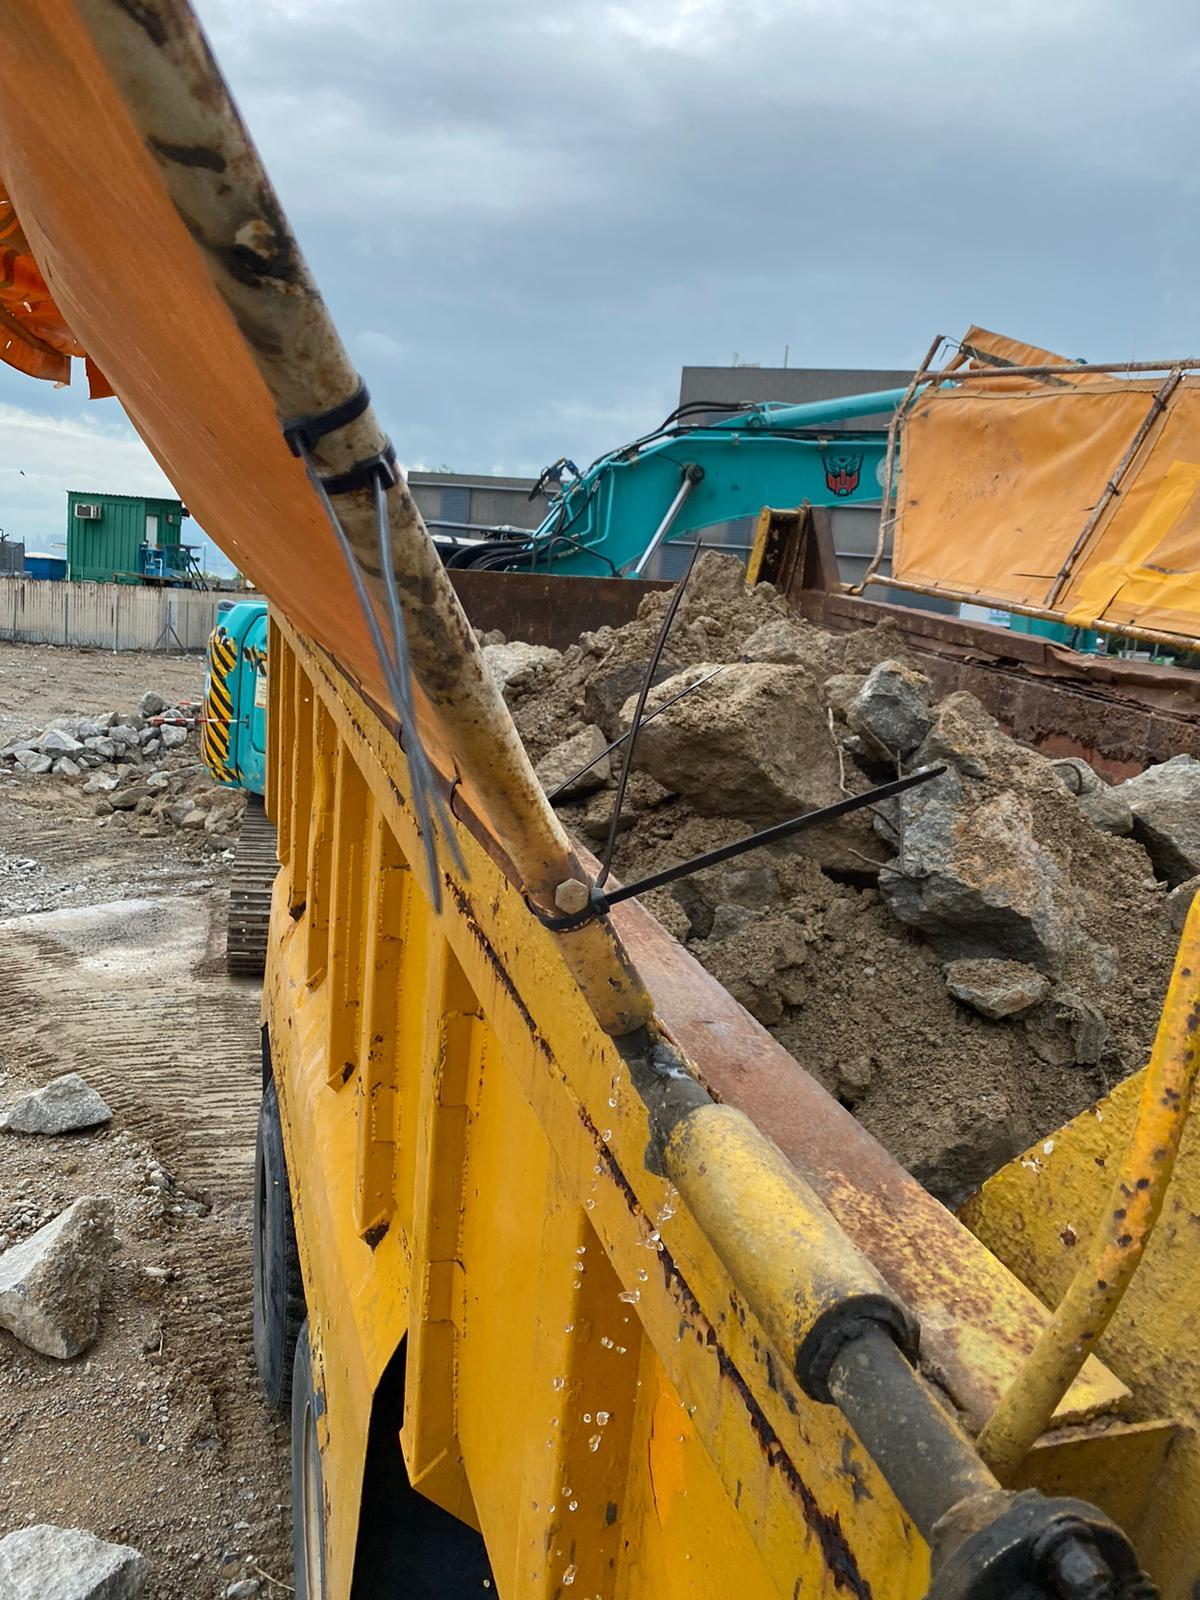dry: (493, 562, 1200, 1183)
